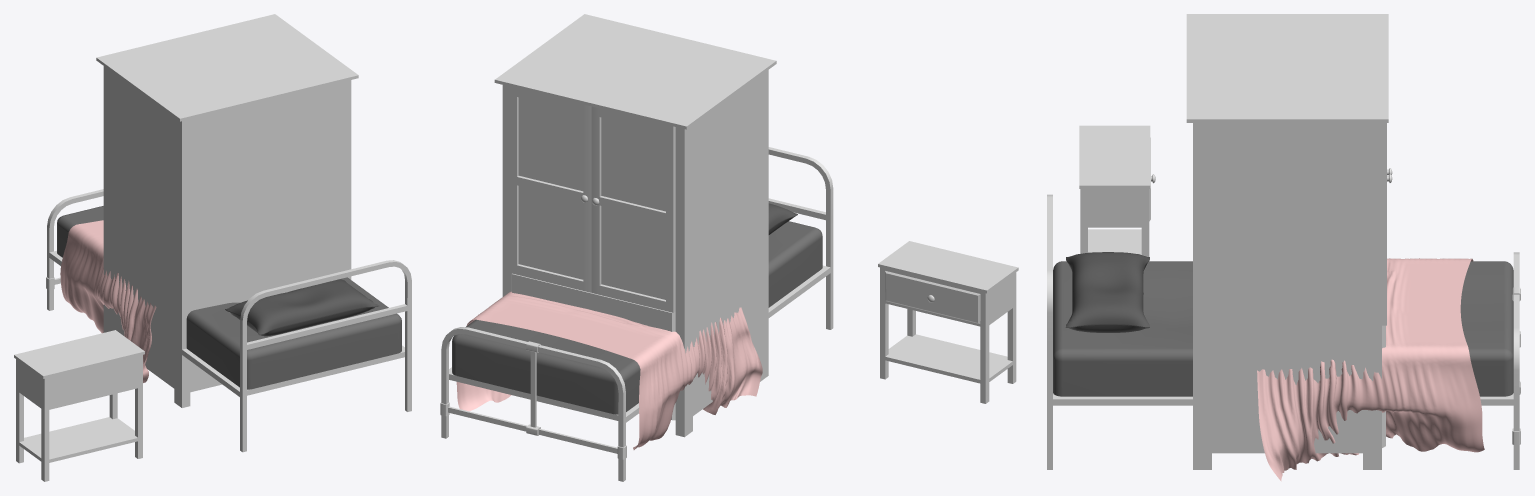
The model's file is Bed sidetable Wardrove.fbx.
3 renders of one model, left to right at view 1: azimuth 30°, elevation 25°; view 2: azimuth 150°, elevation 25°; view 3: azimuth 270°, elevation 25°, orthographic. The views are drawn at different scales.
Parts seen in each view (by area): view 1: Wardrove_Main, Table_Main, Bed_Mattress, Bed_Frame, Bed_Sheet1, Bed_Pillow1; view 2: Wardrove_Main, Wardrove_Door, Bed_Sheet1, Bed_Mattress, Table_Main, Bed_Frame, Wardrove_Drawer, Table_Drawer, Bed; view 3: Wardrove_Main, Bed_Sheet1, Bed_Mattress, Table_Main, Bed_Pillow1, Bed_Frame, Wardrove_Door.
Part boxes in pixels (box(x1,y1,x2,y2)): Wardrove_Main: box(96, 14, 358, 407); Table_Main: box(14, 330, 144, 481); Bed_Mattress: box(57, 206, 401, 389); Bed_Frame: box(47, 189, 411, 452); Bed_Sheet1: box(60, 220, 156, 382); Bed_Pillow1: box(225, 279, 378, 336); Wardrove_Main: box(494, 14, 776, 437); Wardrove_Door: box(509, 86, 675, 312); Bed_Sheet1: box(456, 291, 762, 449); Bed_Mattress: box(452, 221, 822, 414); Table_Main: box(878, 241, 1018, 403); Bed_Frame: box(441, 147, 833, 481); Wardrove_Drawer: box(511, 273, 675, 331); Table_Drawer: box(885, 271, 980, 323); Bed: box(440, 341, 626, 459); Wardrove_Main: box(1186, 14, 1388, 469); Bed_Sheet1: box(1257, 258, 1484, 481); Bed_Mattress: box(1053, 261, 1513, 396); Table_Main: box(1079, 125, 1150, 256); Bed_Pillow1: box(1065, 252, 1149, 332); Bed_Frame: box(1047, 194, 1519, 469); Wardrove_Door: box(1382, 123, 1386, 325).
Size of the model in its own units: 2.26 by 1.65 by 2.01.
